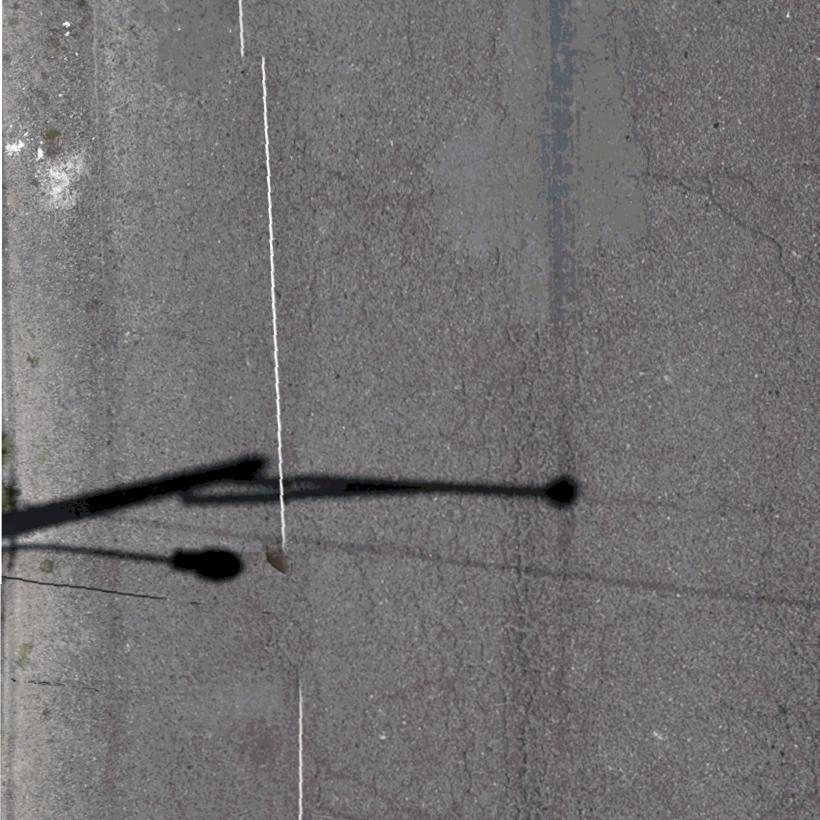GRIETA: (708, 187, 803, 331), (641, 172, 692, 191), (724, 175, 759, 193)
PIEL DE COCODRILO: (404, 321, 588, 819)
